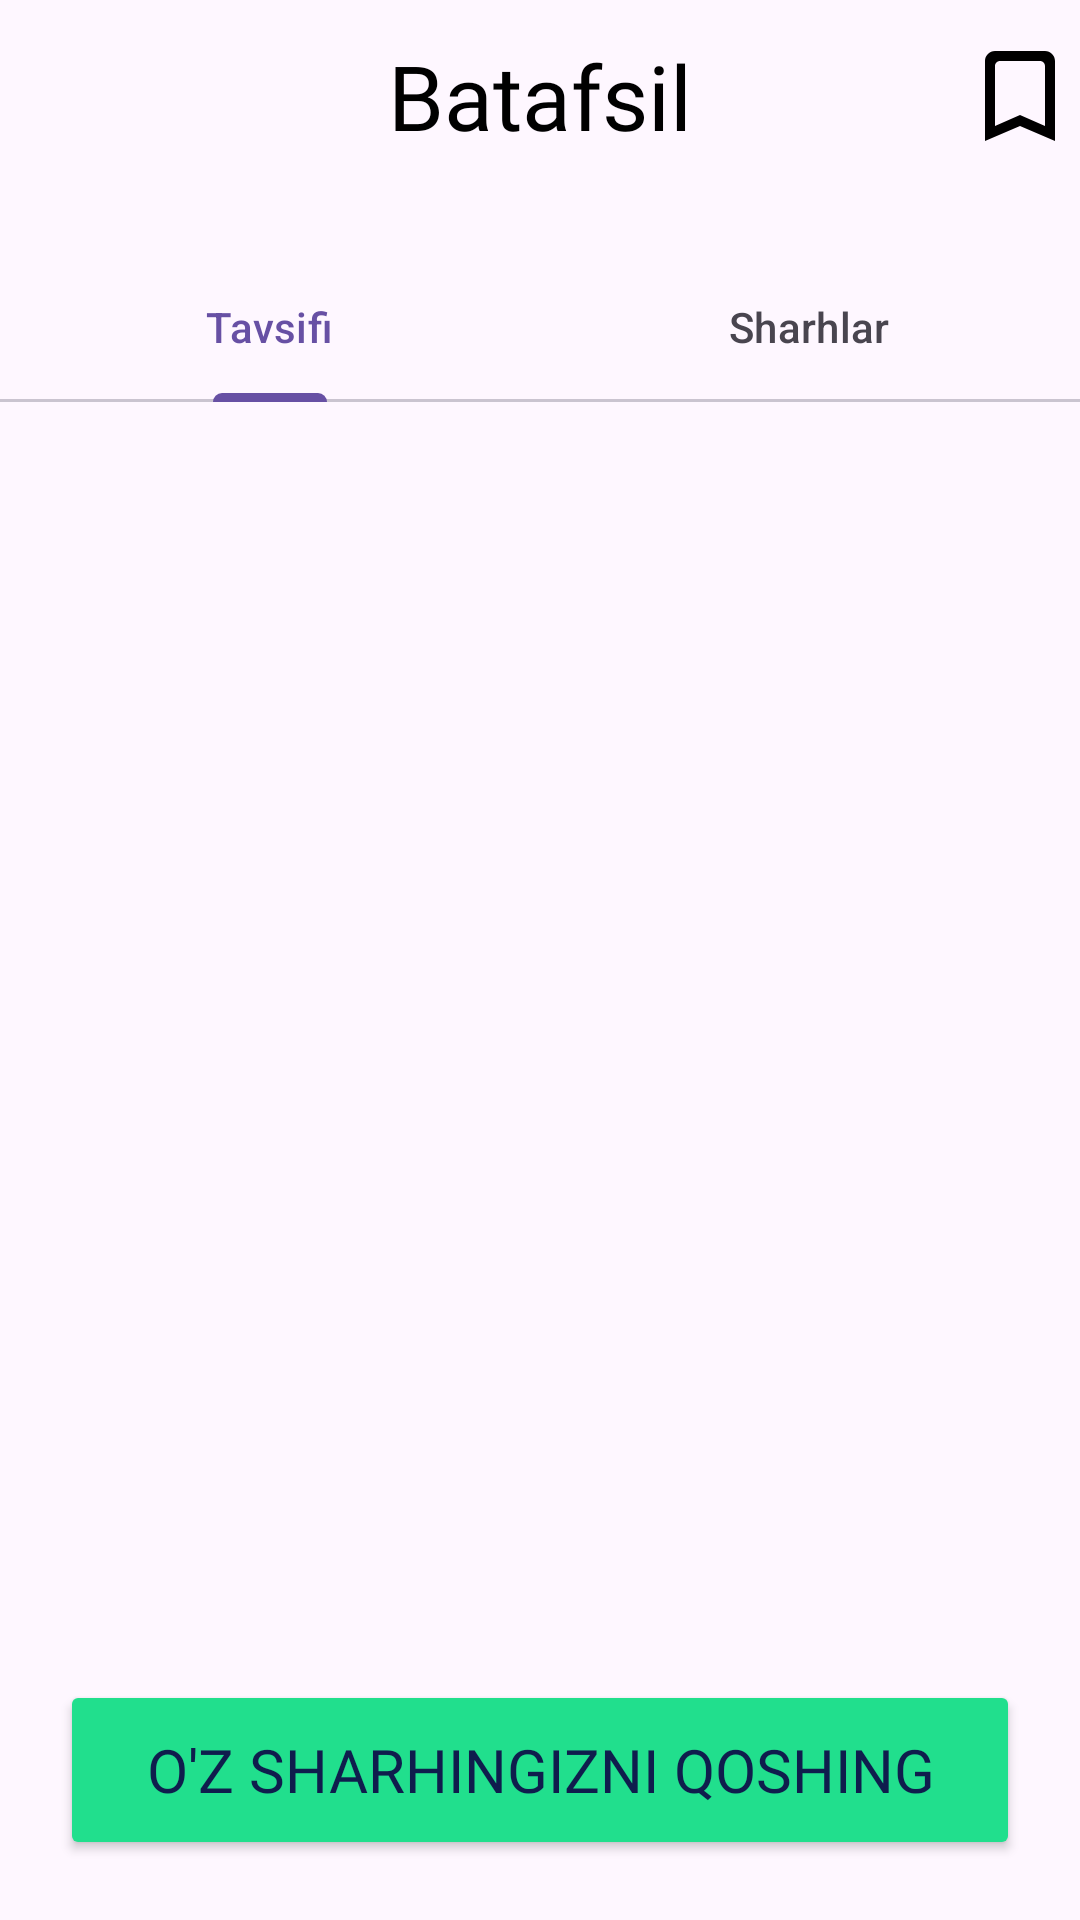

Icon bounding boxes for this 1080 x 1920 phone screenshot, format bbox=(x1, y1, x2, y2):
bookmark: bbox=(985, 51, 1055, 141)
